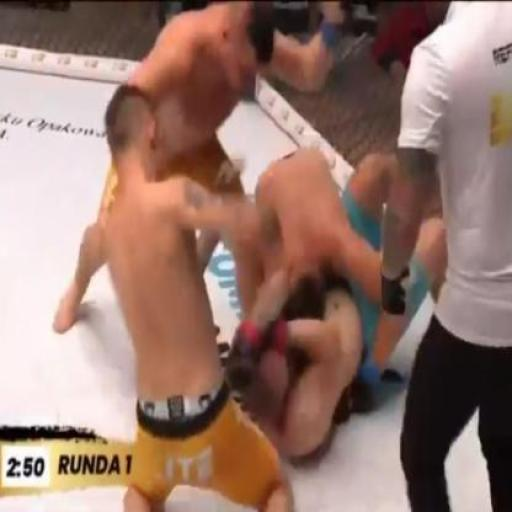Fighting: (51, 2, 449, 512)
